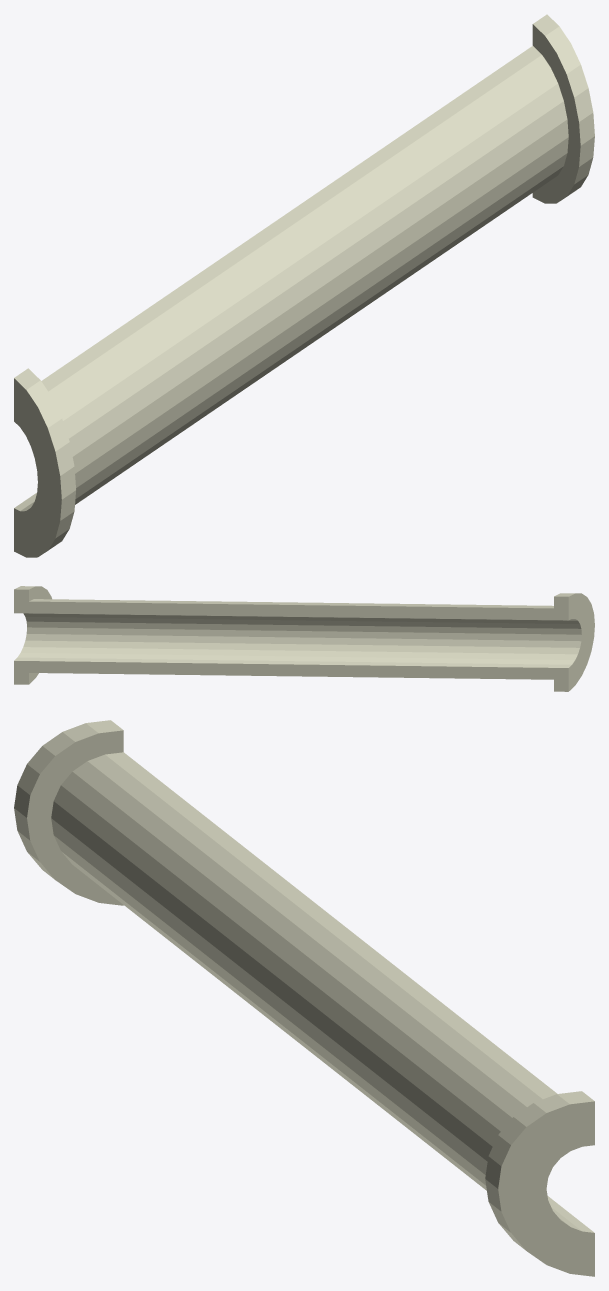
Rendered from section_137.obj.
3 views of the same model, one above another, from view 1: azimuth 30°, elevation 25°; view 2: azimuth 150°, elevation 25°; view 3: azimuth 270°, elevation 25° (orthographic). The views are drawn at different scales.
Bounding box in the file's own units: 37.26 × 8 × 24.
